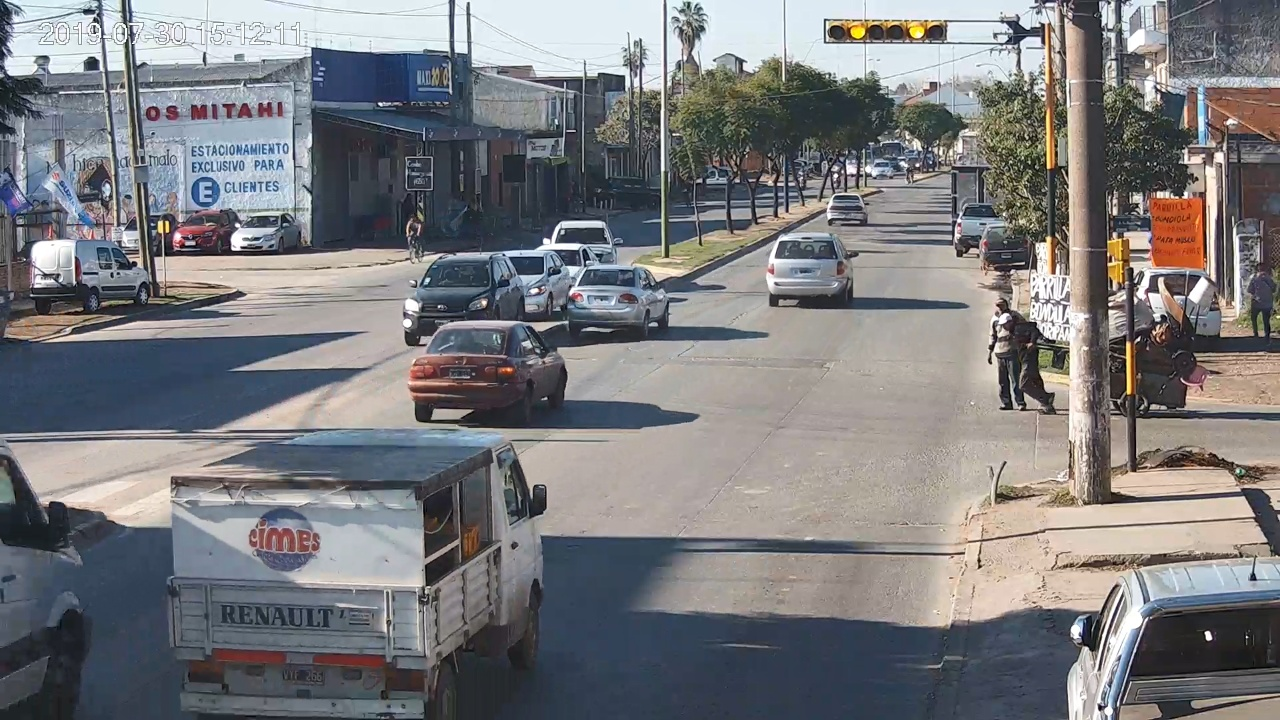car: (169, 431, 548, 709), (409, 320, 568, 422), (568, 265, 671, 337), (766, 232, 858, 307), (826, 193, 869, 226)
traffic light: (829, 18, 947, 43)
